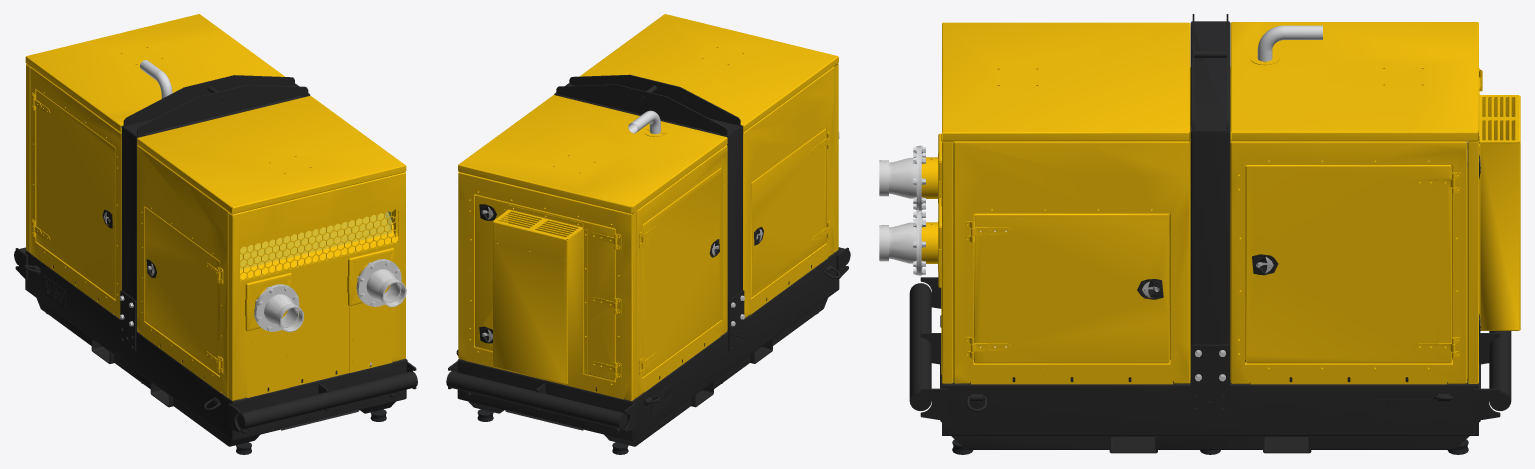
File: msp-enclosure.glb
The picture shows the model from 3 angles, left to right: view 1: azimuth 30°, elevation 25°; view 2: azimuth 150°, elevation 25°; view 3: azimuth 270°, elevation 25°; orthographic projection. The views are drawn at different scales.
Visible parts, largest first — view 1: G2RL300-SAF-1003-2, G2RL300-SAF-1005-3, G2RL300-SAF-1006-2, G2RL300-SAF-2011-14, MirrorG2RL300-SAF-1001-6, G2RL300-SAF-1011-12, V2RL300-FTS-2004-SAFE-1, MirrorG2RL300-SAF-2002-5, GRRL200-SAF-1172-1, V2RL300-FTS-2002-SAFE-2, G2RL200-LBA-SAF-2000-3/G2RL200-SAF-1033-1, V2SKF-TB-5500-03-2 (+16 smaller); view 2: G2RL300-SAF-1006-2, G2RL200-SAF-2027-1, G2RL300-SAF-1005-3, G2RL300-SAF-2011-14, G2RL200-SAF-1004-2, G2RL300-SAF-1011-12, MirrorG2RL300-SAF-1001-6, V2RL300-FTS-2004-SAFE-1, V2RL300-SAF-1021-6, MirrorG2RL300-SAF-2002-5, V2RL300-FTS-2002-SAFE-1, G2RL200-LBA-SAF-2000-3/G2RL200-SAF-1033-2 (+9 smaller); view 3: G2RL300-SAF-2011-10, G2RL300-SAF-1005-3, G2RL300-SAF-1011-8, G2RL300-SAF-1006-2, G2RL300-SAF-1001-4, V2RL300-FTS-2003-SAFE-1, G2RL300-SAF-2002-3, G2RL200-SAF-2027-1, G2RL200-LBA-SAF-2000-3/G2RL200-SAF-1040-1, G2RL200-LBA-SAF-2000-3/G2RL200-SAF-1041-1, G2RL300-SAF-1003-2, G2RL200-SAF-1004-2 (+18 smaller).
Boxes of the visible parts, x1=… form: G2RL300-SAF-1003-2: x1=228, y1=172, x2=405, y2=400; G2RL300-SAF-1005-3: x1=137, y1=96, x2=406, y2=214; G2RL300-SAF-1006-2: x1=25, y1=14, x2=285, y2=132; G2RL300-SAF-2011-14: x1=36, y1=90, x2=115, y2=299; MirrorG2RL300-SAF-1001-6: x1=137, y1=145, x2=228, y2=397; G2RL300-SAF-1011-12: x1=145, y1=207, x2=219, y2=375; V2RL300-FTS-2004-SAFE-1: x1=25, y1=250, x2=232, y2=440; MirrorG2RL300-SAF-2002-5: x1=30, y1=67, x2=121, y2=318; GRRL200-SAF-1172-1: x1=232, y1=208, x2=398, y2=281; V2RL300-FTS-2002-SAFE-2: x1=232, y1=359, x2=406, y2=441; G2RL200-LBA-SAF-2000-3/G2RL200-SAF-1033-1: x1=137, y1=84, x2=308, y2=135; V2SKF-TB-5500-03-2: x1=240, y1=371, x2=417, y2=428; G2RL300-SAF-1006-2: x1=458, y1=95, x2=727, y2=213; G2RL200-SAF-2027-1: x1=493, y1=205, x2=587, y2=384; G2RL300-SAF-1005-3: x1=579, y1=14, x2=838, y2=132; G2RL300-SAF-2011-14: x1=642, y1=167, x2=721, y2=377; G2RL200-SAF-1004-2: x1=458, y1=172, x2=635, y2=400; G2RL300-SAF-1011-12: x1=751, y1=128, x2=826, y2=297; MirrorG2RL300-SAF-1001-6: x1=743, y1=67, x2=834, y2=317; V2RL300-FTS-2004-SAFE-1: x1=632, y1=250, x2=839, y2=440; V2RL300-SAF-1021-6: x1=475, y1=194, x2=615, y2=381; MirrorG2RL300-SAF-2002-5: x1=631, y1=145, x2=727, y2=397; V2RL300-FTS-2002-SAFE-1: x1=457, y1=359, x2=632, y2=441; G2RL200-LBA-SAF-2000-3/G2RL200-SAF-1033-2: x1=556, y1=84, x2=727, y2=135; G2RL300-SAF-2011-10: x1=1245, y1=165, x2=1452, y2=363; G2RL300-SAF-1005-3: x1=942, y1=22, x2=1190, y2=141; G2RL300-SAF-1011-8: x1=974, y1=213, x2=1169, y2=363; G2RL300-SAF-1006-2: x1=1230, y1=22, x2=1478, y2=141; G2RL300-SAF-1001-4: x1=953, y1=139, x2=1190, y2=384; V2RL300-FTS-2003-SAFE-1: x1=942, y1=361, x2=1478, y2=435; G2RL300-SAF-2002-3: x1=1230, y1=139, x2=1467, y2=384; G2RL200-SAF-2027-1: x1=1479, y1=88, x2=1520, y2=330; G2RL200-LBA-SAF-2000-3/G2RL200-SAF-1040-1: x1=1190, y1=127, x2=1230, y2=383; G2RL200-LBA-SAF-2000-3/G2RL200-SAF-1041-1: x1=1190, y1=21, x2=1230, y2=132; G2RL300-SAF-1003-2: x1=942, y1=141, x2=953, y2=383; G2RL200-SAF-1004-2: x1=1467, y1=141, x2=1478, y2=383.
Size of the model in its own units: 1.59 by 2.11 by 3.37.
